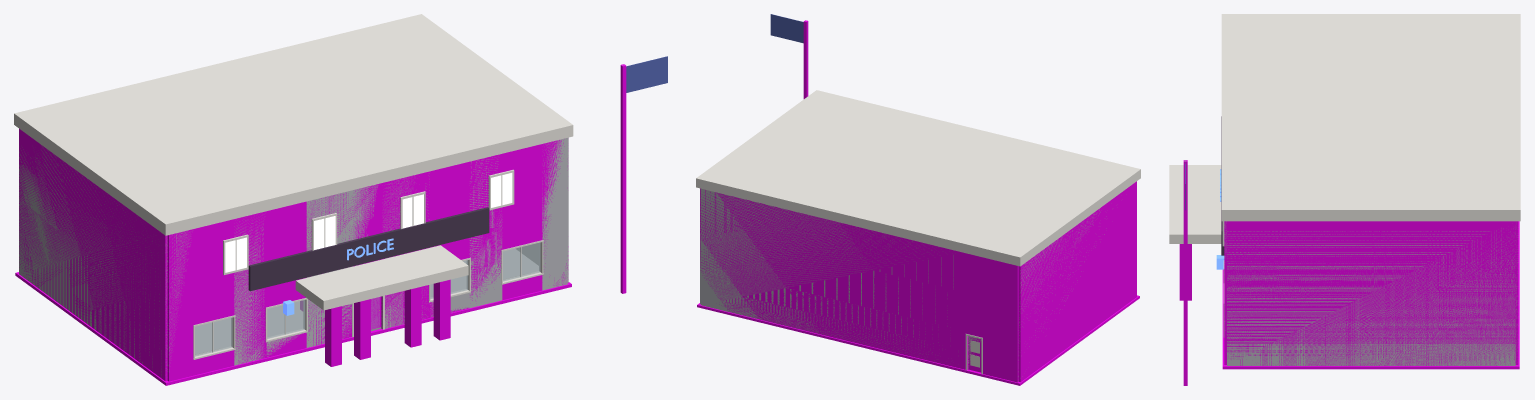
File: police_station.glb
3 views of the same model, side by side, from view 1: azimuth 30°, elevation 25°; view 2: azimuth 150°, elevation 25°; view 3: azimuth 270°, elevation 25° (orthographic). The views are drawn at different scales.
Visible parts, largest first — view 1: Cornice, COL_Wall_West_0, Wall_Front, Wall_West, Sign_Board, Portico, COL_Wall_Front_0, COL_Wall_Front_3, COL_Wall_Front_1, COL_Wall_Front_12, COL_Wall_Front_11, Floor (+22 smaller); view 2: Cornice, COL_Wall_Back_2, COL_Wall_West_0, Wall_Back, COL_Wall_Back_0, COL_Slab, COL_Wall_Back_1, Flag, Wall_West, COL_Flagpole; view 3: Cornice, COL_Wall_East_0, Wall_East, Portico, COL_Slab, COL_Flagpole, COL_Column_30, COL_Wall_Back_2, COL_Wall_Front_14.
Part boxes in pixels (x1,y1,x2,y2): Cornice: (14,14,573,235); COL_Wall_West_0: (19,128,167,381); Wall_Front: (167,138,567,371); Wall_West: (19,145,167,377); Sign_Board: (248,207,489,291); Portico: (295,245,468,310); COL_Wall_Front_0: (167,229,194,381); COL_Wall_Front_3: (234,211,266,364); COL_Wall_Front_1: (194,219,234,324); COL_Wall_Front_12: (502,144,542,249); COL_Wall_Front_11: (469,154,502,300); Floor: (195,249,538,354); Cornice: (696,90,1140,266); COL_Wall_Back_2: (700,190,968,369); COL_Wall_West_0: (1018,181,1136,381); Wall_Back: (700,189,1018,376); COL_Wall_Back_0: (981,257,1018,382); COL_Slab: (697,295,1139,385); COL_Wall_Back_1: (967,253,981,337); Flag: (770,14,803,43); Wall_West: (1018,209,1106,378); COL_Flagpole: (803,20,808,98); Cornice: (1221,14,1520,221); COL_Wall_East_0: (1227,221,1515,365); Wall_East: (1227,228,1515,365); Portico: (1169,165,1221,243); COL_Slab: (1222,221,1519,369); COL_Flagpole: (1183,160,1187,385); COL_Column_30: (1179,244,1191,300); COL_Wall_Back_2: (1515,221,1518,364); COL_Wall_Front_14: (1224,221,1226,364).
Bounding box in the file's own units: 26.7 × 12 × 17.05.
